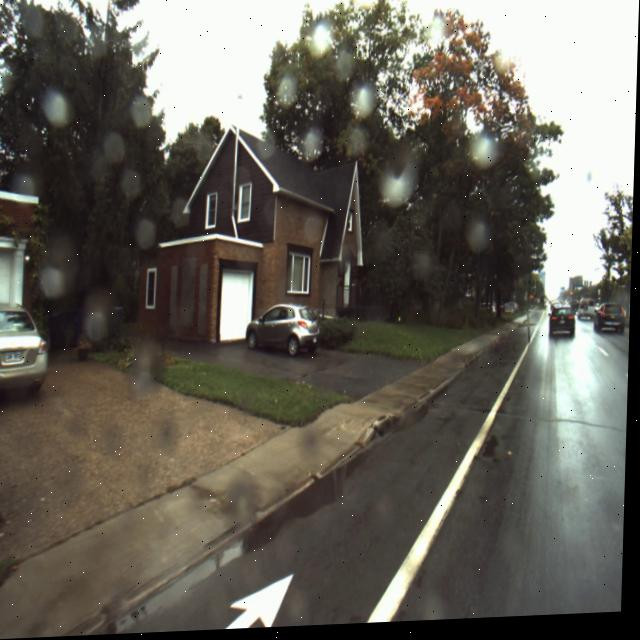car: (0, 302, 52, 399), (248, 304, 323, 362), (596, 308, 629, 343), (550, 312, 575, 346), (578, 305, 596, 326)
